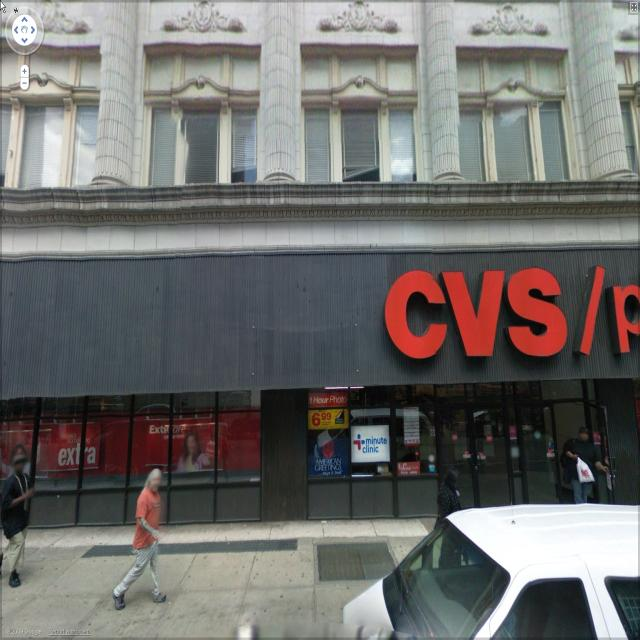b_1: (14, 1, 636, 521)
